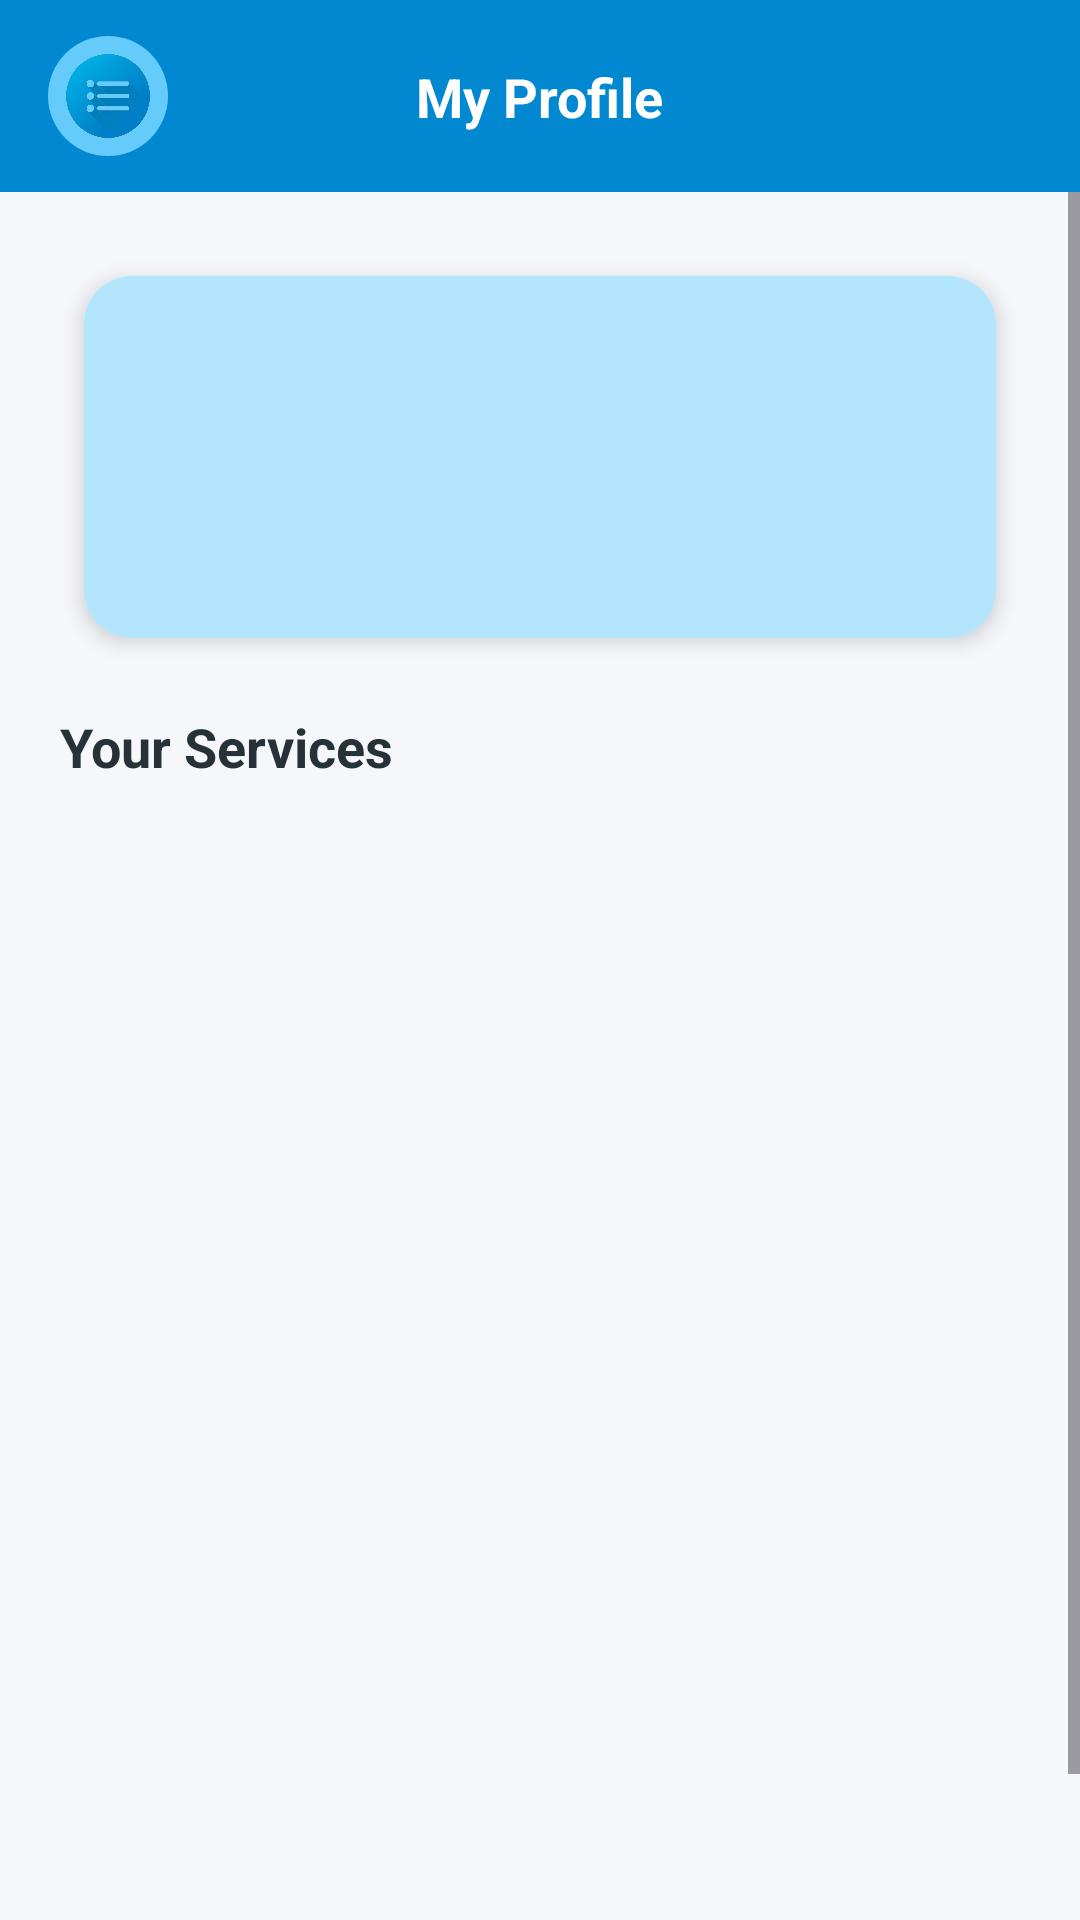

Named icons in this screenshot (1080 x 1920) and their bounding boxes, rect(x1, y1, x2, y2):
Menu: rect(48, 36, 168, 156)
